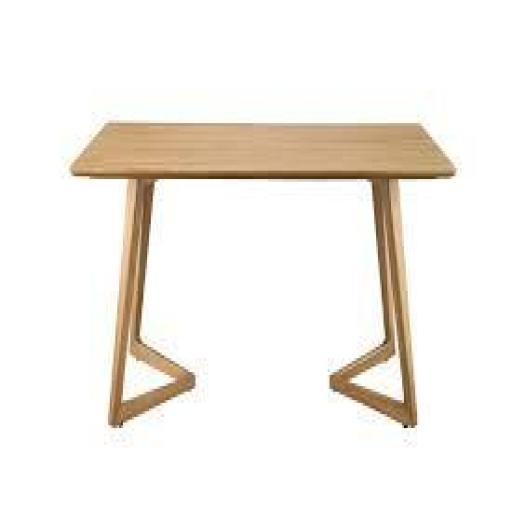table: (67, 66, 460, 446)
